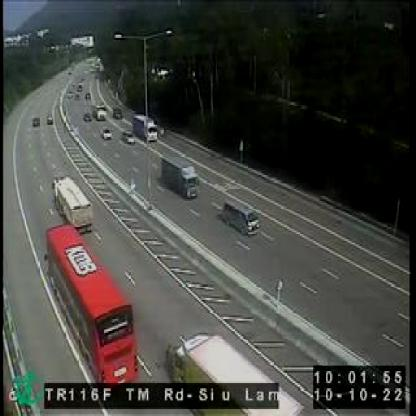Bus: (43, 225, 137, 384)
Car: (219, 196, 260, 234), (96, 106, 106, 121), (101, 130, 112, 141), (32, 113, 41, 126), (114, 110, 124, 120), (48, 114, 55, 125), (84, 114, 91, 123)
Truck: (160, 327, 290, 412), (52, 172, 96, 228), (159, 154, 200, 201), (134, 113, 160, 142)
